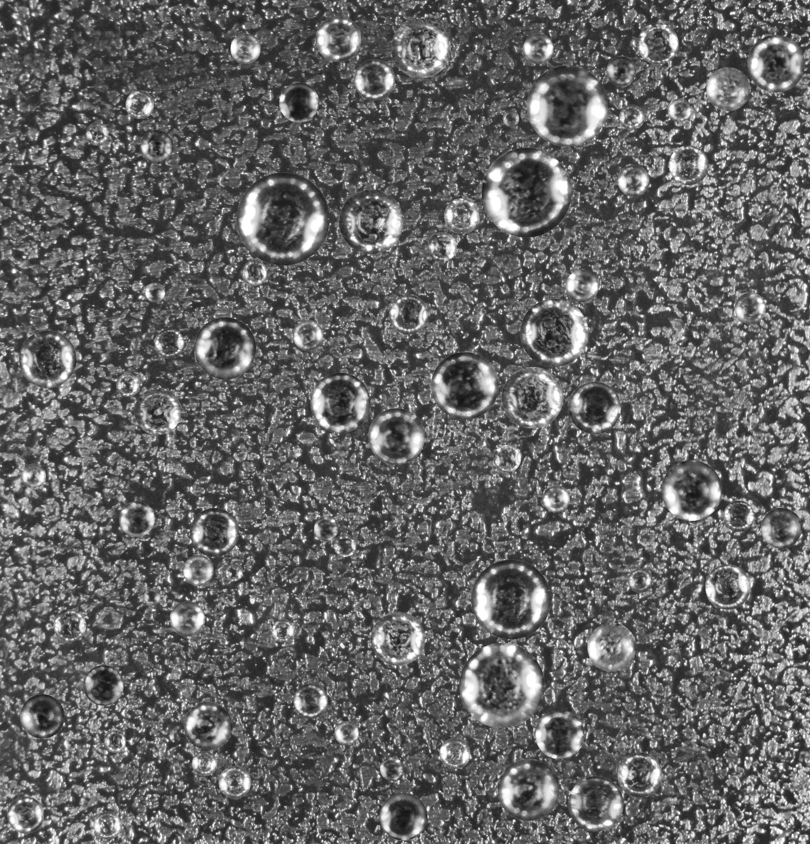Bubble: (236, 172, 329, 265), (481, 147, 571, 237), (459, 643, 544, 728), (527, 65, 607, 146), (471, 559, 550, 639), (520, 298, 588, 366), (431, 352, 498, 419), (339, 189, 403, 253), (194, 317, 256, 379), (497, 759, 559, 820), (501, 367, 563, 428), (661, 460, 722, 520), (310, 372, 370, 432), (391, 18, 450, 78), (747, 35, 804, 92), (19, 330, 76, 387), (368, 408, 424, 464), (568, 776, 623, 831), (371, 611, 424, 665), (568, 381, 621, 434), (535, 710, 584, 759), (587, 623, 636, 671), (184, 701, 232, 749), (190, 508, 238, 556), (379, 793, 427, 840), (134, 388, 181, 434), (315, 16, 361, 61), (705, 564, 750, 609), (617, 752, 662, 797), (20, 694, 64, 738), (706, 67, 750, 110), (637, 23, 678, 64), (354, 59, 395, 100), (761, 507, 801, 548), (83, 665, 123, 705), (279, 82, 318, 122), (669, 145, 708, 185), (389, 295, 428, 334), (7, 796, 43, 833), (444, 198, 480, 233), (169, 601, 204, 636), (293, 683, 328, 718), (119, 501, 154, 536), (139, 130, 173, 163), (566, 269, 598, 302), (617, 164, 649, 196), (53, 609, 85, 641), (218, 766, 250, 798), (734, 292, 766, 323), (723, 500, 754, 531), (439, 738, 470, 769), (292, 320, 323, 350), (183, 555, 213, 585), (523, 33, 553, 63), (154, 328, 184, 358), (230, 33, 260, 63), (606, 56, 636, 85), (427, 232, 456, 261), (125, 90, 153, 118), (93, 811, 121, 839), (493, 444, 520, 472), (542, 485, 569, 512), (241, 260, 267, 285), (619, 104, 644, 129), (192, 751, 217, 776), (21, 463, 45, 488), (628, 568, 652, 592), (334, 721, 358, 745), (314, 516, 338, 540), (667, 98, 691, 121), (116, 373, 139, 396), (85, 122, 108, 145), (380, 757, 403, 780), (333, 534, 356, 557), (271, 619, 294, 642), (103, 730, 125, 752), (145, 282, 164, 302), (143, 588, 160, 605), (225, 564, 242, 581), (502, 110, 519, 126)
